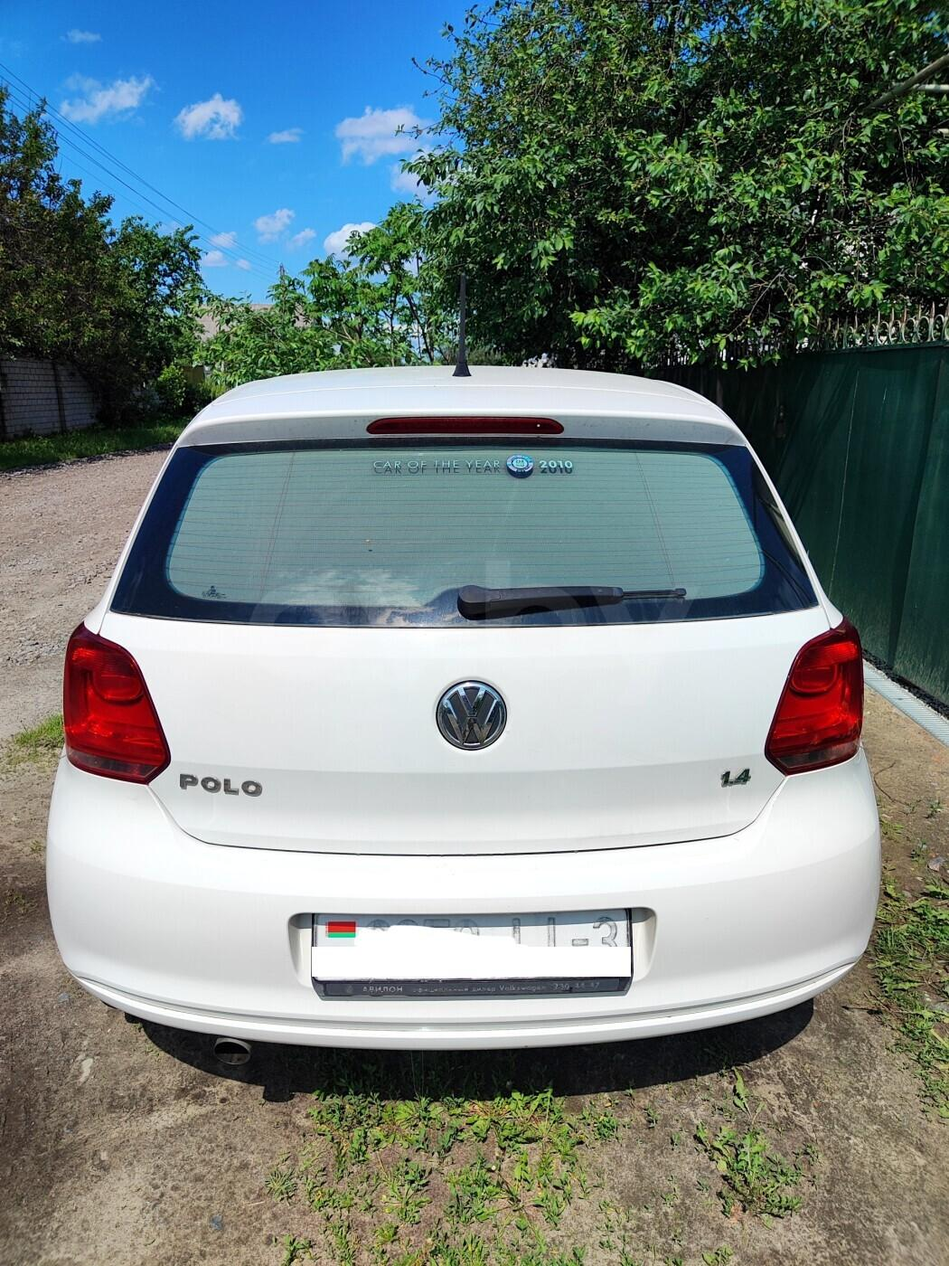Polo_2009-2015: (47, 363, 886, 1098)
